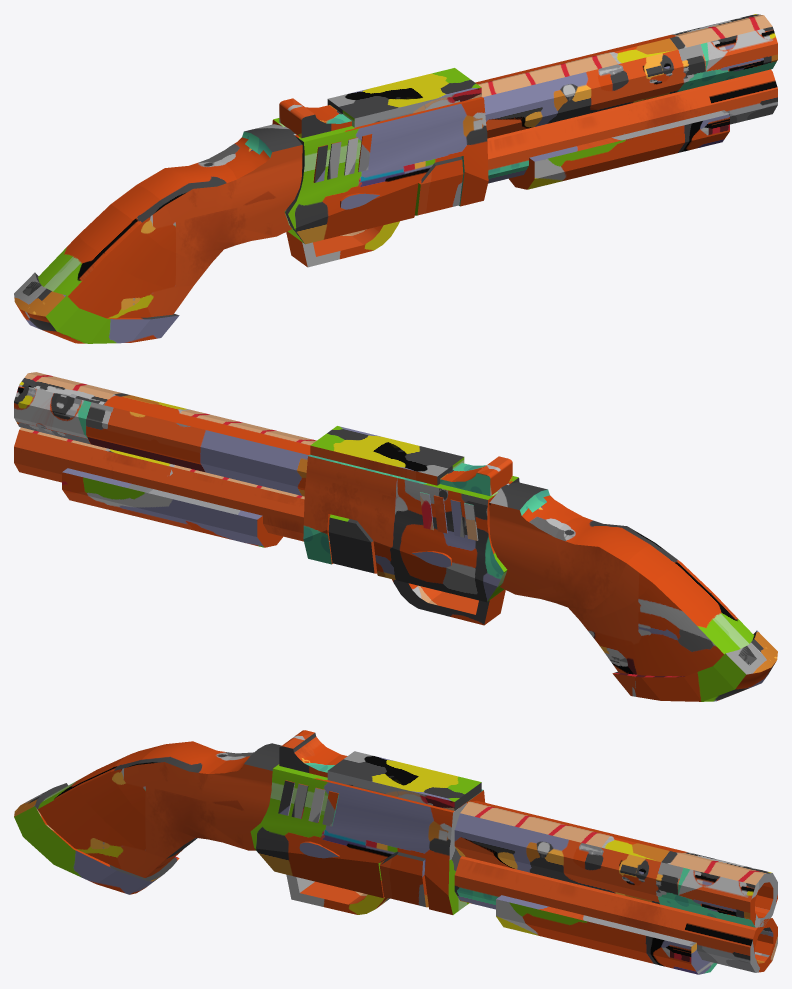
The model's file is Shotgun.fbx.
The picture shows the model from 3 angles, top to bottom: view 1: azimuth 30°, elevation 25°; view 2: azimuth 150°, elevation 25°; view 3: azimuth 330°, elevation 25°; orthographic projection.
Visible parts, largest first — view 1: pCube29; view 2: pCube29; view 3: pCube29.
Boxes of the visible parts, <box> form: pCube29: <box>14,14,777,343</box>; pCube29: <box>14,372,777,701</box>; pCube29: <box>14,730,777,974</box>.
Bounding box in the file's own units: 36.61 × 8.79 × 3.52.
